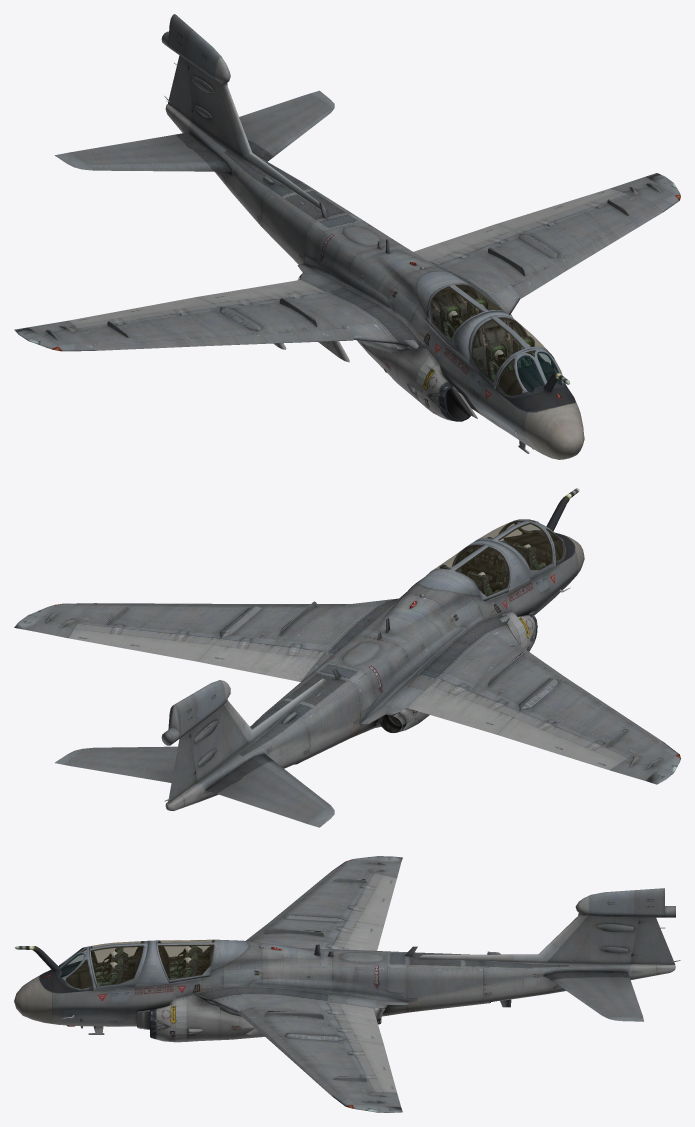
File: EA-6B_Prowler.dat.obj
The picture shows the model from 3 angles, top to bottom: view 1: azimuth 30°, elevation 25°; view 2: azimuth 150°, elevation 25°; view 3: azimuth 270°, elevation 25°; orthographic projection. The views are drawn at different scales.
Parts seen in each view (by area): view 1: EA-6B_LOD0_default, EA-6B_Glass01_default, EA-6B_ElevatorR01_default, EA-6B_ElevatorL01_default, EA-6B_VoletR01_default, EA-6B_FlapL01_default, EA-6B_FlapR01_default, EA-6B_AileronL01_default, EA-6B_AileronR01_default, EA-6B_Canopy01_default, EA-6B_VoletR02_default, EA-6B_VoletL01_default (+5 smaller); view 2: EA-6B_LOD0_default, EA-6B_ElevatorR01_default, EA-6B_Glass01_default, EA-6B_ElevatorL01_default, EA-6B_FlapL01_default, EA-6B_FlapR01_default, EA-6B_AileronL01_default, EA-6B_AileronR01_default, EA-6B_RudderL01_default, EA-6B_BrakeL03_default, EA-6B_BrakeR03_default, EA-6B_BrakeL04_default (+5 smaller); view 3: EA-6B_LOD0_default, EA-6B_Glass01_default, EA-6B_ElevatorL01_default, EA-6B_RudderL01_default, EA-6B_FlapL01_default, EA-6B_AileronR01_default, EA-6B_AileronL01_default, EA-6B_Canopy01_default, EA-6B_FlapR01_default, EA-6B_Canopy02_default, EA-6B_VoletL01_default, EA-6B_BrakeR03_default (+4 smaller).
Boxes of the visible parts, x1,y1,x2,y2 form: EA-6B_LOD0_default: [14, 14, 680, 459]; EA-6B_Glass01_default: [429, 284, 562, 395]; EA-6B_ElevatorR01_default: [54, 132, 227, 171]; EA-6B_ElevatorL01_default: [239, 90, 334, 161]; EA-6B_VoletR01_default: [93, 334, 267, 350]; EA-6B_FlapL01_default: [413, 224, 512, 261]; EA-6B_FlapR01_default: [198, 279, 319, 303]; EA-6B_AileronL01_default: [497, 188, 620, 230]; EA-6B_AileronR01_default: [69, 297, 213, 325]; EA-6B_Canopy01_default: [468, 315, 552, 387]; EA-6B_VoletR02_default: [262, 327, 354, 343]; EA-6B_VoletL01_default: [561, 208, 662, 270]; EA-6B_LOD0_default: [14, 488, 680, 810]; EA-6B_ElevatorR01_default: [206, 755, 334, 827]; EA-6B_Glass01_default: [433, 520, 564, 596]; EA-6B_ElevatorL01_default: [55, 746, 177, 782]; EA-6B_FlapL01_default: [198, 644, 319, 681]; EA-6B_FlapR01_default: [406, 686, 512, 734]; EA-6B_AileronL01_default: [69, 628, 213, 661]; EA-6B_AileronR01_default: [497, 718, 620, 770]; EA-6B_RudderL01_default: [164, 731, 197, 803]; EA-6B_BrakeL03_default: [75, 623, 220, 644]; EA-6B_BrakeR03_default: [513, 711, 628, 761]; EA-6B_BrakeL04_default: [214, 638, 325, 658]; EA-6B_LOD0_default: [14, 856, 675, 1112]; EA-6B_Glass01_default: [60, 939, 213, 988]; EA-6B_ElevatorL01_default: [546, 972, 643, 1021]; EA-6B_RudderL01_default: [630, 917, 680, 964]; EA-6B_FlapL01_default: [338, 1003, 383, 1044]; EA-6B_AileronR01_default: [357, 875, 396, 925]; EA-6B_AileronL01_default: [357, 1040, 396, 1092]; EA-6B_Canopy01_default: [89, 941, 147, 989]; EA-6B_FlapR01_default: [343, 922, 383, 950]; EA-6B_Canopy02_default: [156, 939, 216, 983]; EA-6B_VoletL01_default: [270, 1036, 337, 1095]; EA-6B_BrakeR03_default: [347, 873, 382, 921].
Bounding box in the file's own units: 16.12 × 4.3 × 17.71.
